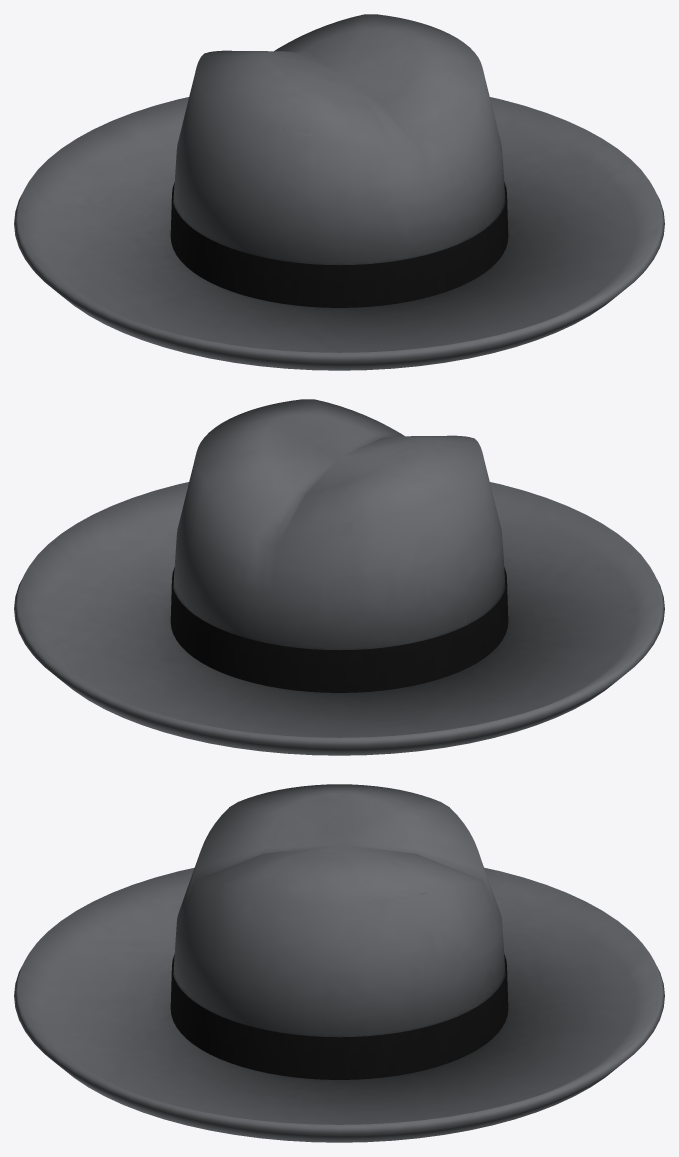
Rendered from fedora-grey.glb.
3 renders of one model, top to bottom at view 1: azimuth 30°, elevation 25°; view 2: azimuth 150°, elevation 25°; view 3: azimuth 270°, elevation 25°, orthographic.
Visible parts, largest first — view 1: fabric_primary_felt, hat_band; view 2: fabric_primary_felt, hat_band; view 3: fabric_primary_felt, hat_band.
Part boxes in pixels (x1,y1,x2,y2): fabric_primary_felt: (14,14,664,370); hat_band: (170,182,508,307); fabric_primary_felt: (14,399,664,755); hat_band: (170,567,508,692); fabric_primary_felt: (14,784,664,1142); hat_band: (170,954,508,1079).
Size of the model in its own units: 0.34 by 0.114 by 0.34.
2 materials, 2 textured.
